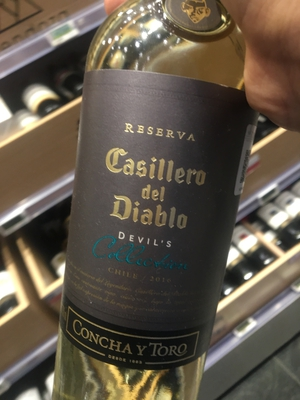casillero del diablo devils collection verde: (50, 22, 265, 400)
